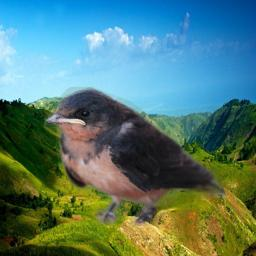Swallow: (44, 87, 226, 226)
